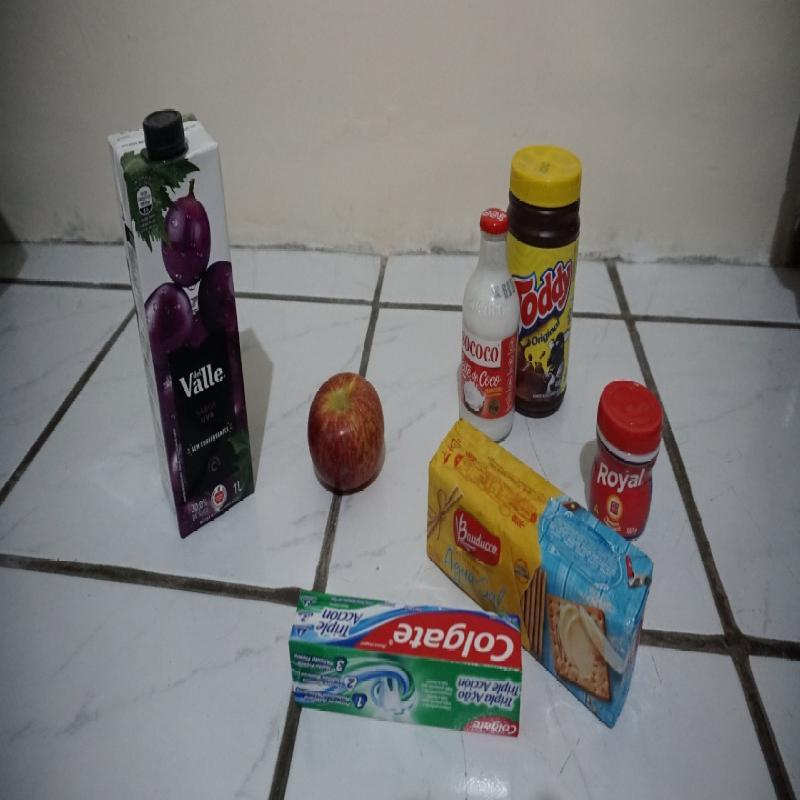Apple: (306, 369, 388, 494)
Chocolate Powder: (507, 142, 582, 416)
Coconut Milk: (458, 204, 521, 452)
Cracker: (427, 416, 654, 730)
Toothpaste: (287, 590, 524, 742)
Yeast: (588, 378, 664, 552)
